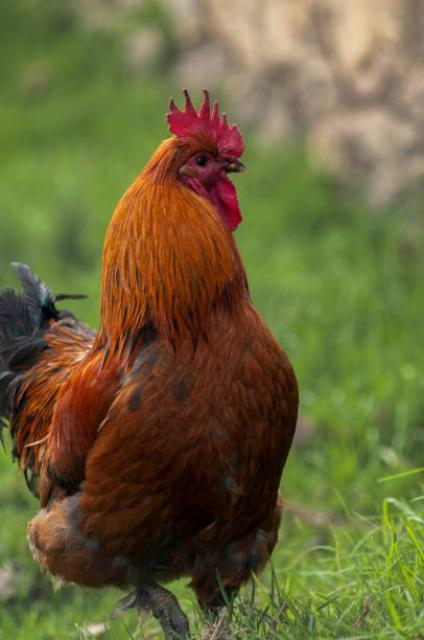Chicken: (0, 86, 298, 640)
